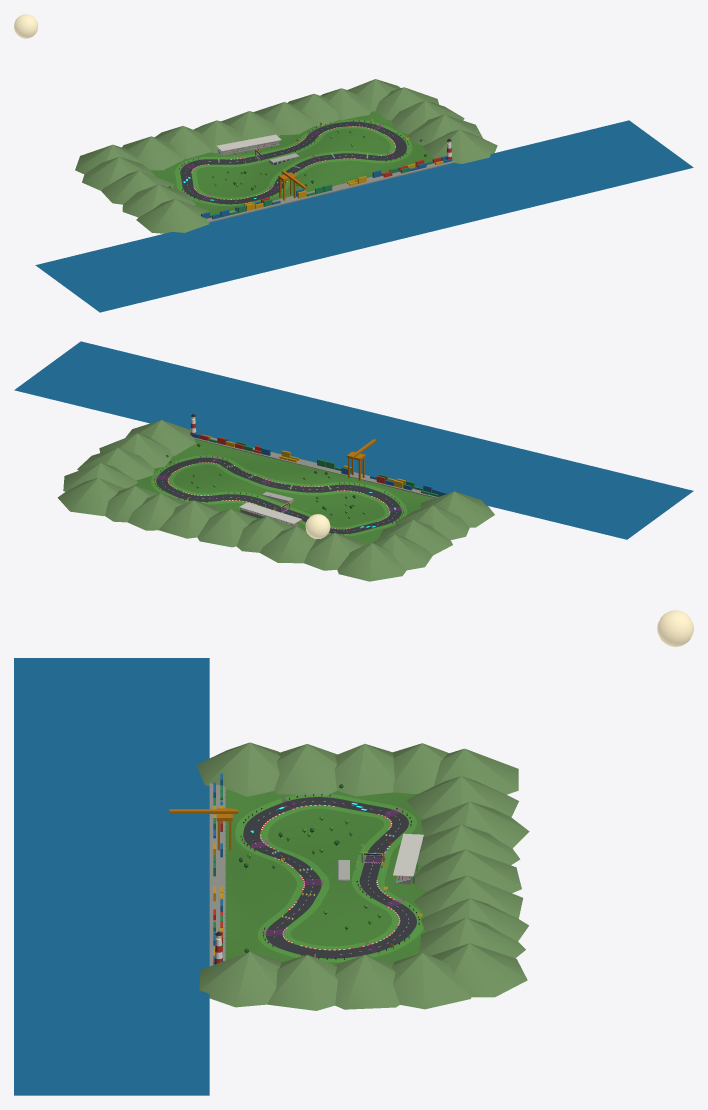
File: track.glb
3 renders of one model, top to bottom at view 1: azimuth 30°, elevation 25°; view 2: azimuth 150°, elevation 25°; view 3: azimuth 270°, elevation 25°, orthographic. The views are drawn at different scales.
Parts seen in each view (by area): view 1: Sea, Terrain, Verge, Road, DistantHill16, DistantHill17, DistantHill02, DistantHill10, DistantHill14, DistantHill06, DistantHill12, DistantHill13 (+12 smaller); view 2: Sea, Terrain, Road, Verge, DistantHill01, DistantHill09, DistantHill02, DistantHill05, DistantHill06, DistantHill03, DistantHill16, DistantHill07 (+13 smaller); view 3: Sea, Terrain, Road, Verge, DistantHill17, DistantHill16, DistantHill09, DistantHill11, DistantHill15, DistantHill13, DistantHill05, DistantHill14 (+12 smaller).
Part boxes in pixels (x1,y1,x2,y2): Sea: (35, 120, 693, 312); Terrain: (150, 111, 435, 215); Verge: (175, 119, 412, 206); Road: (180, 121, 406, 204); DistantHill16: (136, 198, 209, 233); DistantHill17: (422, 129, 497, 163); DistantHill02: (122, 136, 184, 170); DistantHill10: (82, 156, 154, 190); DistantHill14: (122, 184, 195, 217); DistantHill06: (254, 102, 314, 134); DistantHill12: (101, 170, 173, 204); DistantHill13: (391, 100, 464, 134); Sea: (14, 341, 693, 539); Terrain: (132, 439, 434, 545); Road: (156, 457, 401, 533); Verge: (151, 455, 407, 536); DistantHill01: (337, 543, 406, 581); DistantHill09: (57, 478, 125, 516); DistantHill02: (304, 533, 364, 570); DistantHill05: (197, 509, 256, 547); DistantHill06: (159, 500, 221, 538); DistantHill03: (260, 526, 316, 563); DistantHill16: (420, 491, 494, 527); DistantHill07: (127, 493, 187, 530); Sea: (14, 658, 209, 1095); Terrain: (225, 789, 426, 965); Road: (243, 797, 416, 958); Verge: (235, 794, 423, 962); DistantHill17: (199, 951, 282, 1007); DistantHill16: (196, 742, 280, 796); DistantHill09: (431, 943, 527, 997); DistantHill11: (392, 953, 471, 1009); DistantHill15: (267, 954, 337, 1010); DistantHill13: (334, 954, 399, 1009); DistantHill05: (411, 849, 521, 892); DistantHill14: (274, 744, 337, 795).
Bounding box in the file's own units: 900 × 152 × 591.
